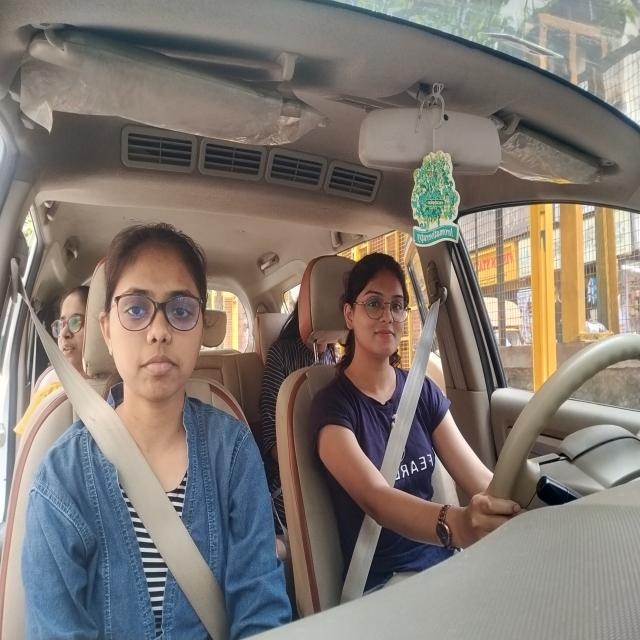person: (100, 220, 204, 420), (344, 255, 414, 378), (53, 286, 87, 377)
